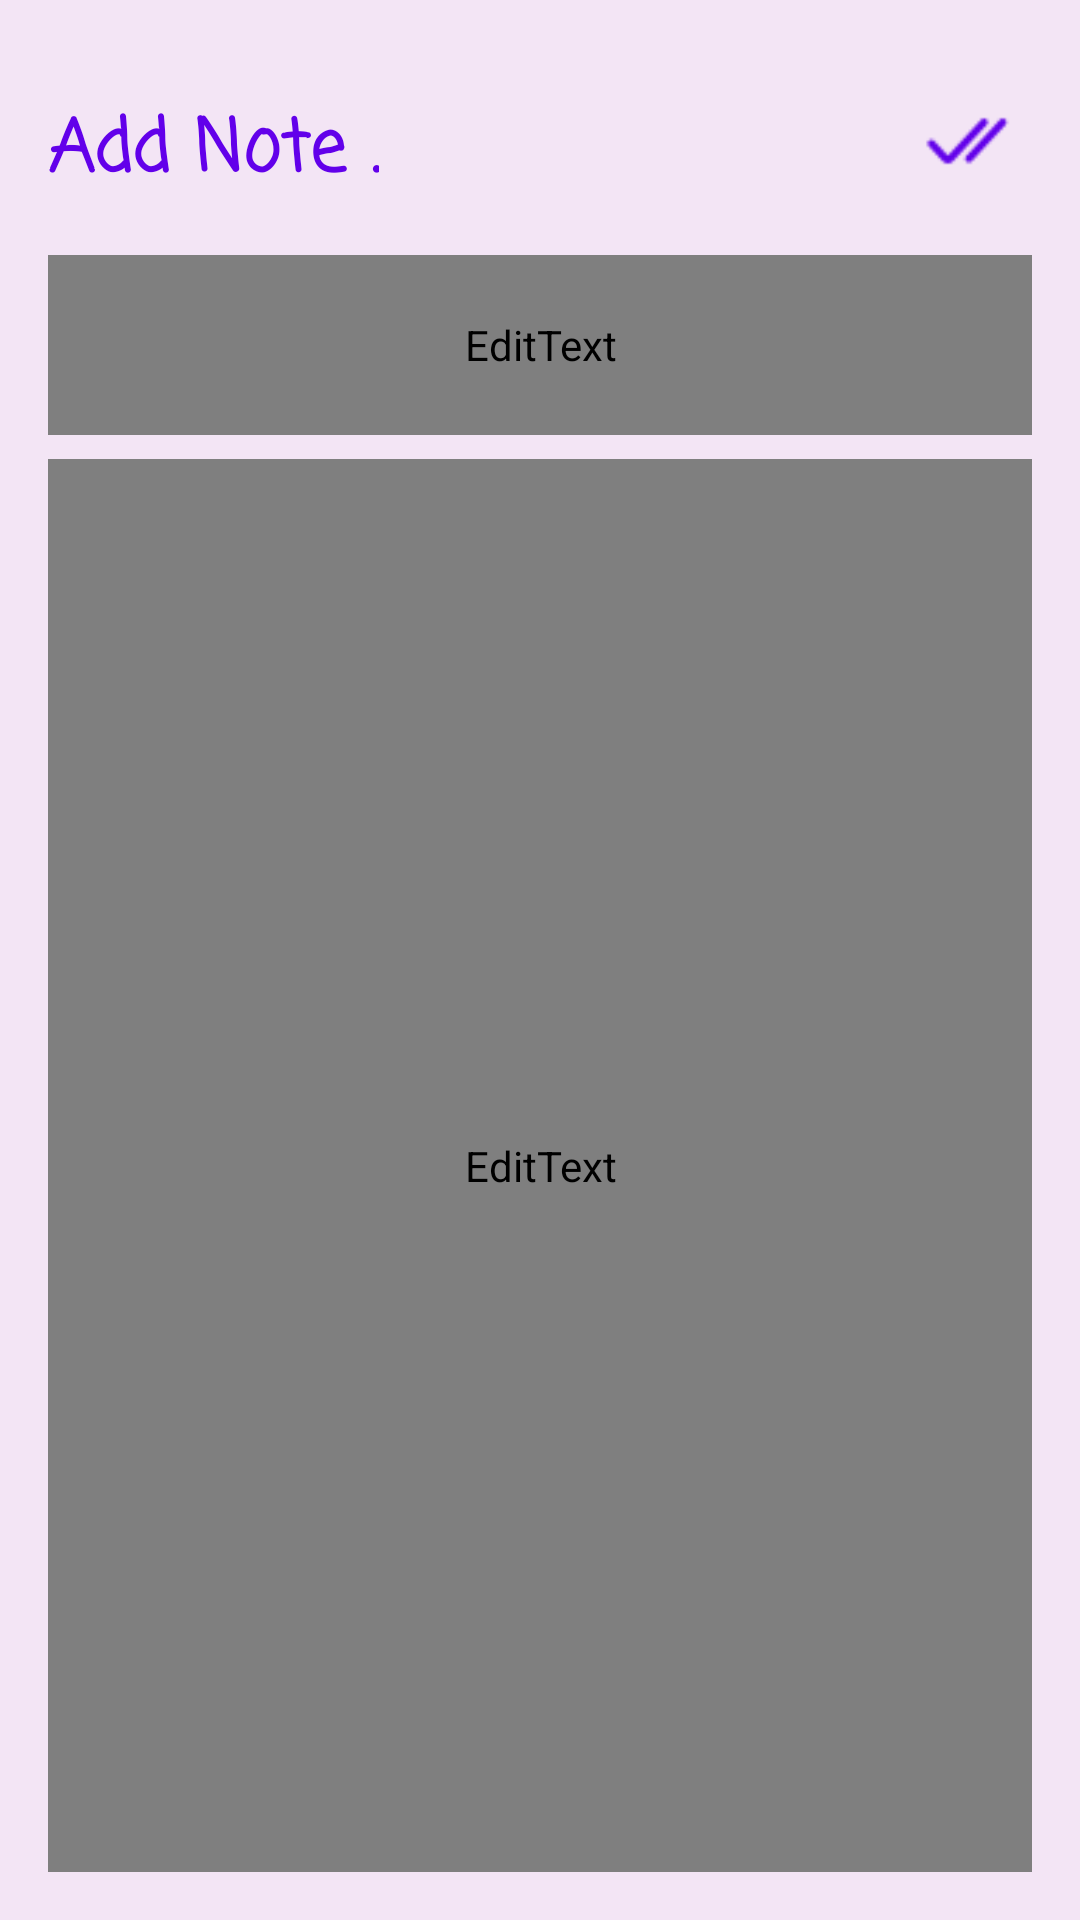

Icons on this 1080*1920 Android screen, each with the point to tap as (x=x, y=y):
done: (x=967, y=141)
